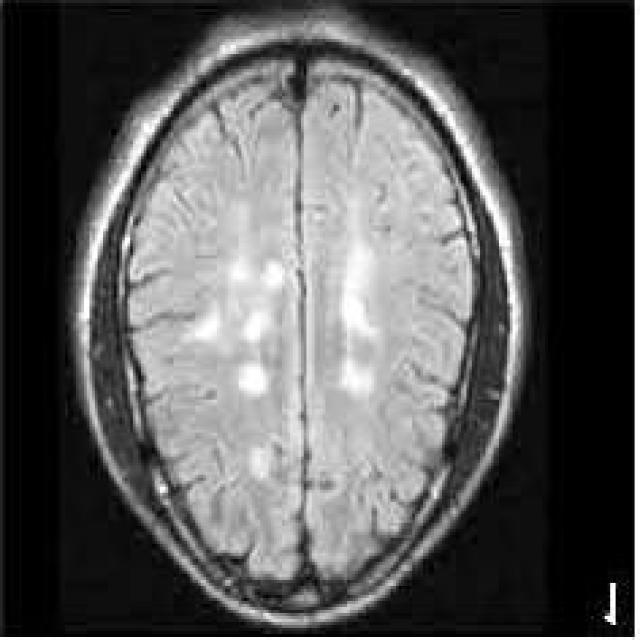notumor: (71, 12, 532, 631)
